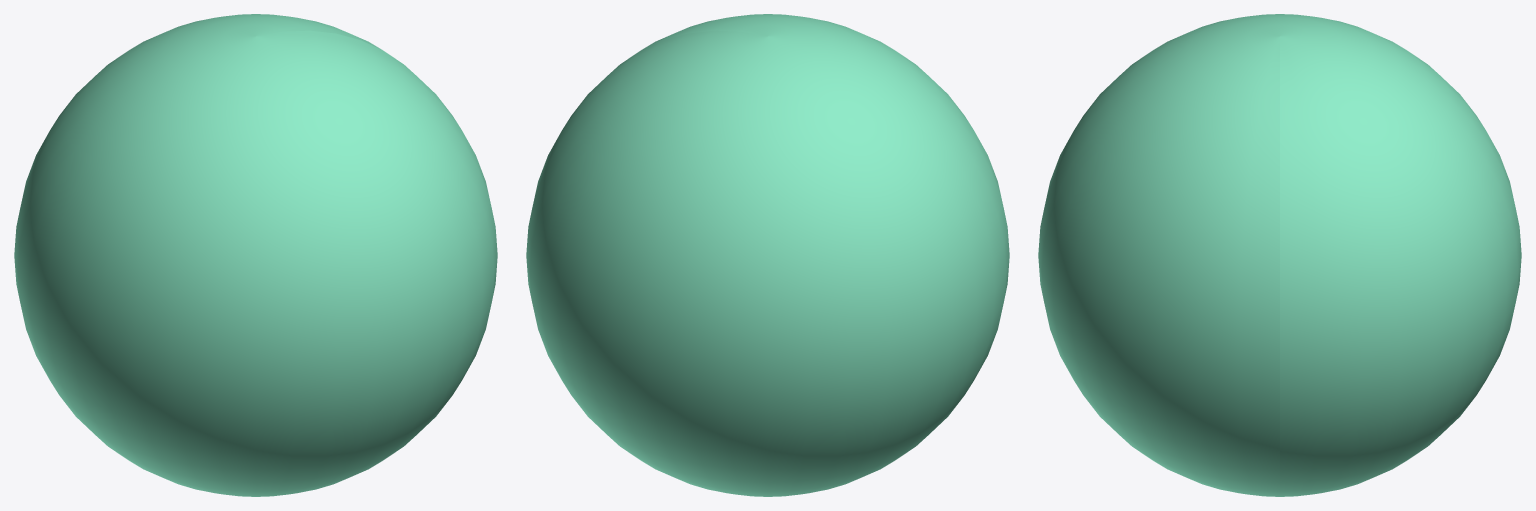
3 views of the same model, side by side, from view 1: azimuth 30°, elevation 25°; view 2: azimuth 150°, elevation 25°; view 3: azimuth 270°, elevation 25° (orthographic).
Visible parts, largest first — view 1: Sphere; view 2: Sphere; view 3: Sphere.
Boxes of the visible parts, bbox=[...] form: Sphere: bbox=[14, 14, 497, 496]; Sphere: bbox=[526, 14, 1009, 496]; Sphere: bbox=[1038, 14, 1521, 496].
Bounding box in the file's own units: 1.2 × 1.2 × 1.2.
